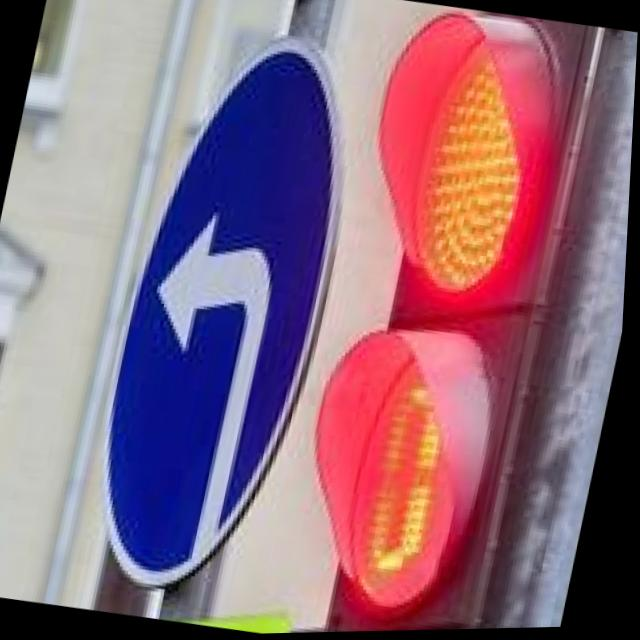red_light: (344, 10, 639, 326)
